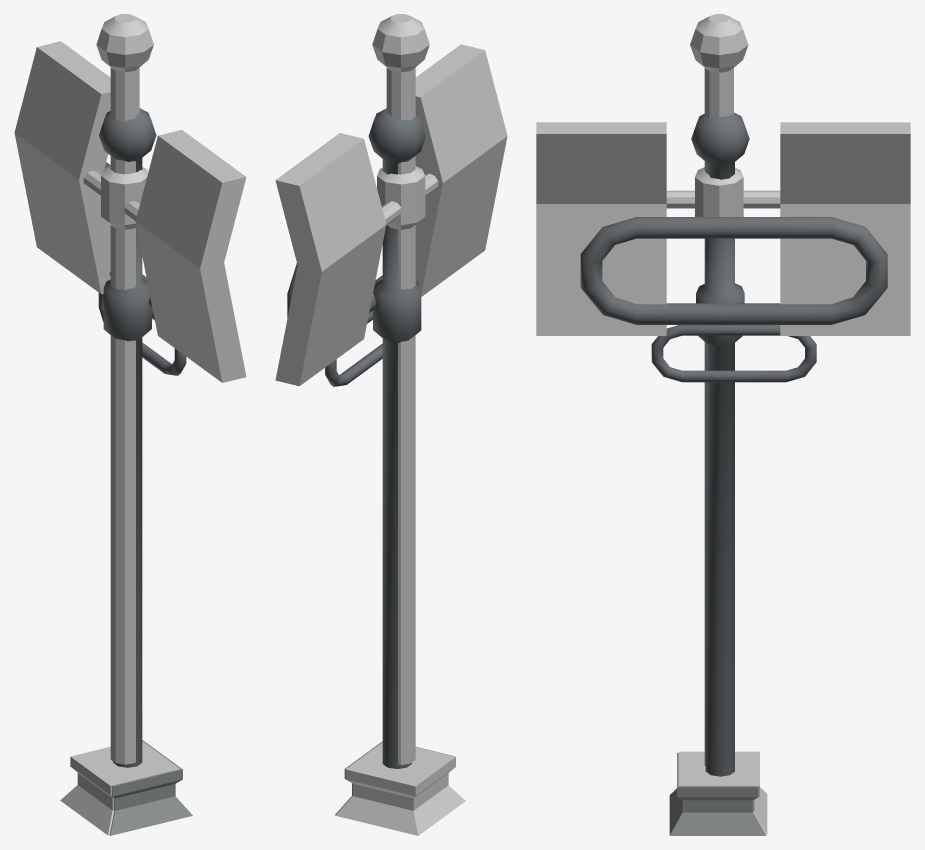
3 renders of one model, left to right at view 1: azimuth 30°, elevation 25°; view 2: azimuth 150°, elevation 25°; view 3: azimuth 270°, elevation 25°, orthographic.
Visible parts, largest first — view 1: 升级2, 升级1a; view 2: 升级2, 升级1a; view 3: 升级2, 升级1a.
Boxes of the visible parts, left/top/right/bottom form: 升级2: left=14, top=14, right=246, bottom=835; 升级1a: left=98, top=108, right=192, bottom=835; 升级2: left=275, top=14, right=507, bottom=835; 升级1a: left=287, top=108, right=454, bottom=815; 升级2: left=536, top=14, right=910, bottom=834; 升级1a: left=580, top=112, right=887, bottom=835.
Size of the model in its own units: 2.84 by 25.39 by 10.81.
